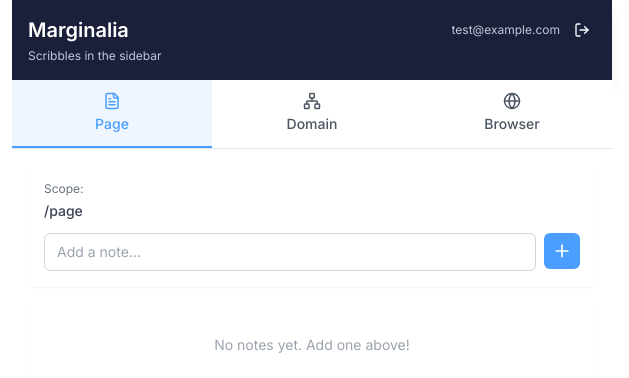
Test: App › App - Main Functionality › should create a new note when text is entered
The width and height of the screenshot is (629, 378).
Type "Test note" into the text box with test id "new-note-input" at (290, 252), box top-left (44, 233), bottom-right (536, 271)
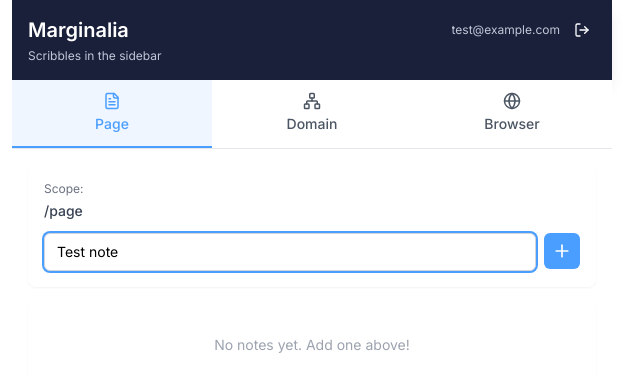
Click the button with test id "add-note-button" at (562, 251), box top-left (544, 233), bottom-right (580, 269)
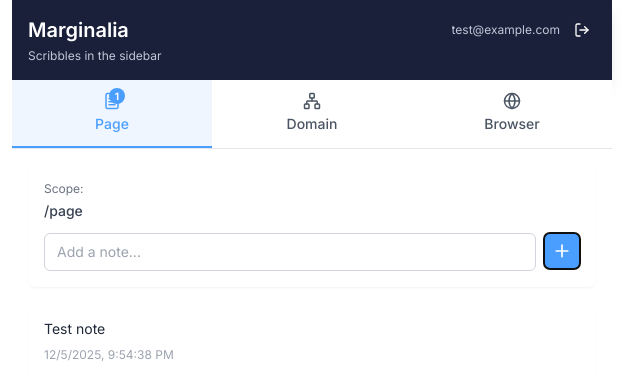
Expected: the text "Test note" is shown, top-left (44, 320), bottom-right (105, 337)
